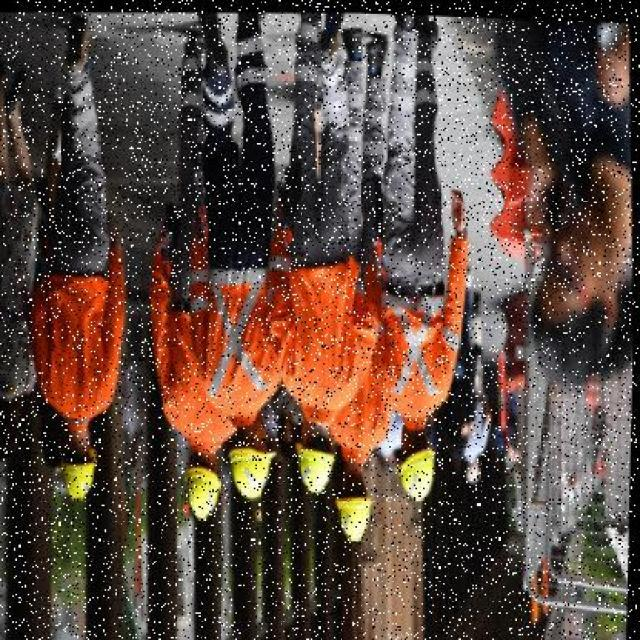helmet: (291, 425, 340, 495), (391, 435, 441, 503), (52, 436, 102, 502), (228, 437, 280, 497), (180, 451, 224, 521), (328, 482, 376, 534)
vest: (195, 246, 287, 440), (31, 251, 128, 427), (146, 269, 229, 453), (282, 242, 365, 420), (375, 263, 459, 423)
